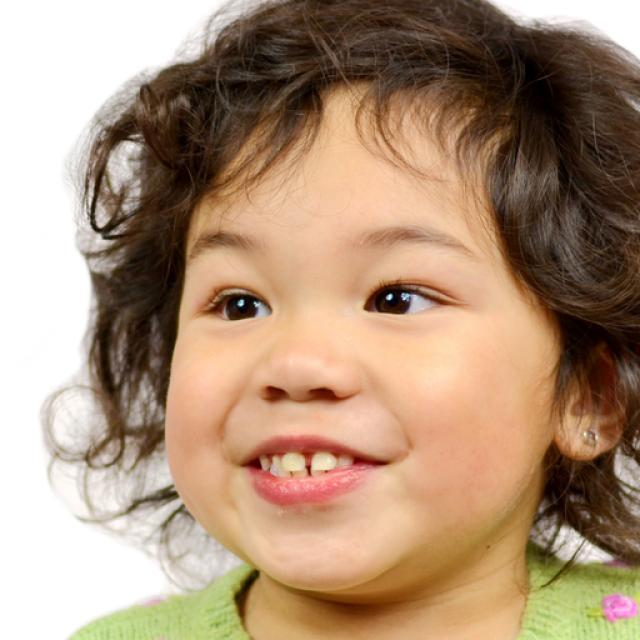happy: (164, 95, 555, 589)
